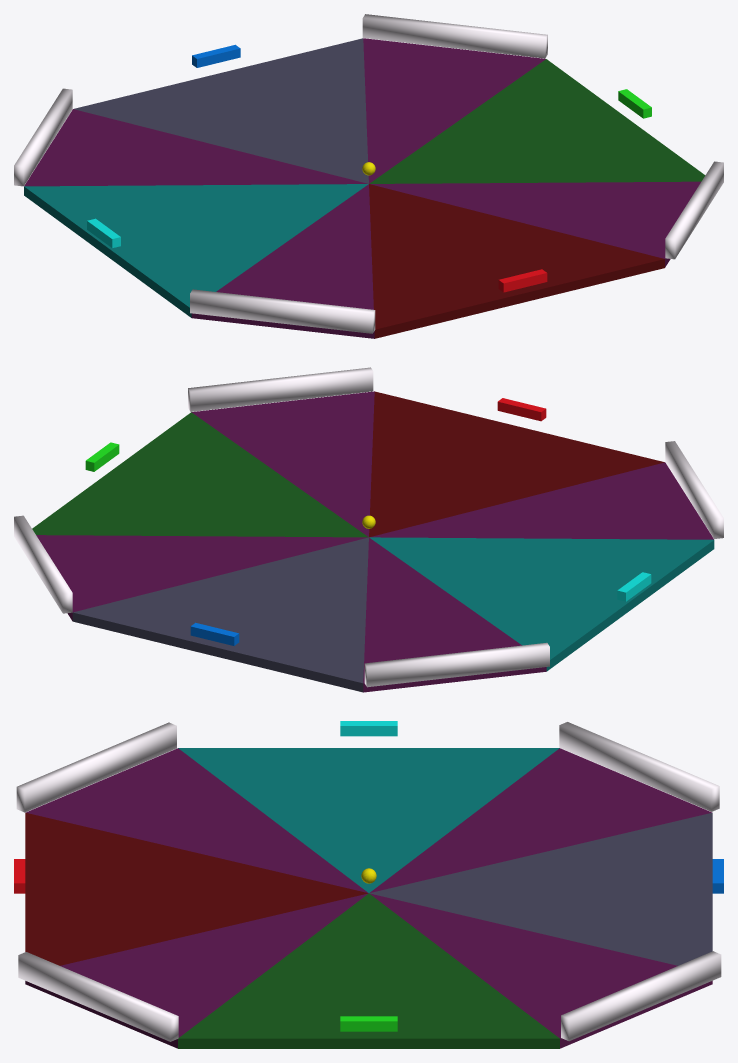
Rendered from pong4p.glb.
The picture shows the model from 3 angles, top to bottom: view 1: azimuth 30°, elevation 25°; view 2: azimuth 150°, elevation 25°; view 3: azimuth 270°, elevation 25°; orthographic projection. The views are drawn at different scales.
Visible parts, largest first — view 1: court, boundary2, boundary3, boundary1, boundary4, paddle1, paddle2, paddle4, paddle3; view 2: court, boundary4, boundary1, boundary3, boundary2, paddle2, paddle1, paddle4, paddle3; view 3: court, boundary3, boundary4, boundary2, boundary1, paddle4, paddle3.
Part boxes in pixels (left/top/right/bottom): court: left=24, top=38, right=705, bottom=338; boundary2: left=190, top=289, right=375, bottom=333; boundary3: left=362, top=14, right=547, bottom=58; boundary1: left=14, top=88, right=72, bottom=186; boundary4: left=665, top=161, right=723, bottom=259; paddle1: left=498, top=269, right=547, bottom=292; paddle2: left=192, top=44, right=240, bottom=67; paddle4: left=87, top=218, right=120, bottom=248; paddle3: left=618, top=89, right=651, bottom=118; court: left=32, top=391, right=714, bottom=692; boundary4: left=188, top=367, right=373, bottom=411; boundary1: left=364, top=642, right=549, bottom=687; boundary3: left=14, top=515, right=72, bottom=613; boundary2: left=665, top=441, right=723, bottom=538; paddle2: left=190, top=622, right=239, bottom=645; paddle1: left=497, top=398, right=546, bottom=421; paddle4: left=617, top=572, right=651, bottom=601; paddle3: left=85, top=442, right=119, bottom=471; court: left=25, top=748, right=712, bottom=1048; boundary3: left=561, top=951, right=721, bottom=1041; boundary4: left=18, top=952, right=178, bottom=1041; boundary2: left=16, top=722, right=176, bottom=812; boundary1: left=559, top=722, right=719, bottom=811; paddle4: left=340, top=721, right=397, bottom=736; paddle3: left=340, top=1016, right=397, bottom=1031.
Bounding box in the file's own units: 18.6 × 1 × 18.6.
